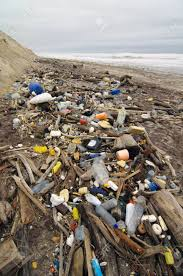garbage: (9, 82, 166, 276)
